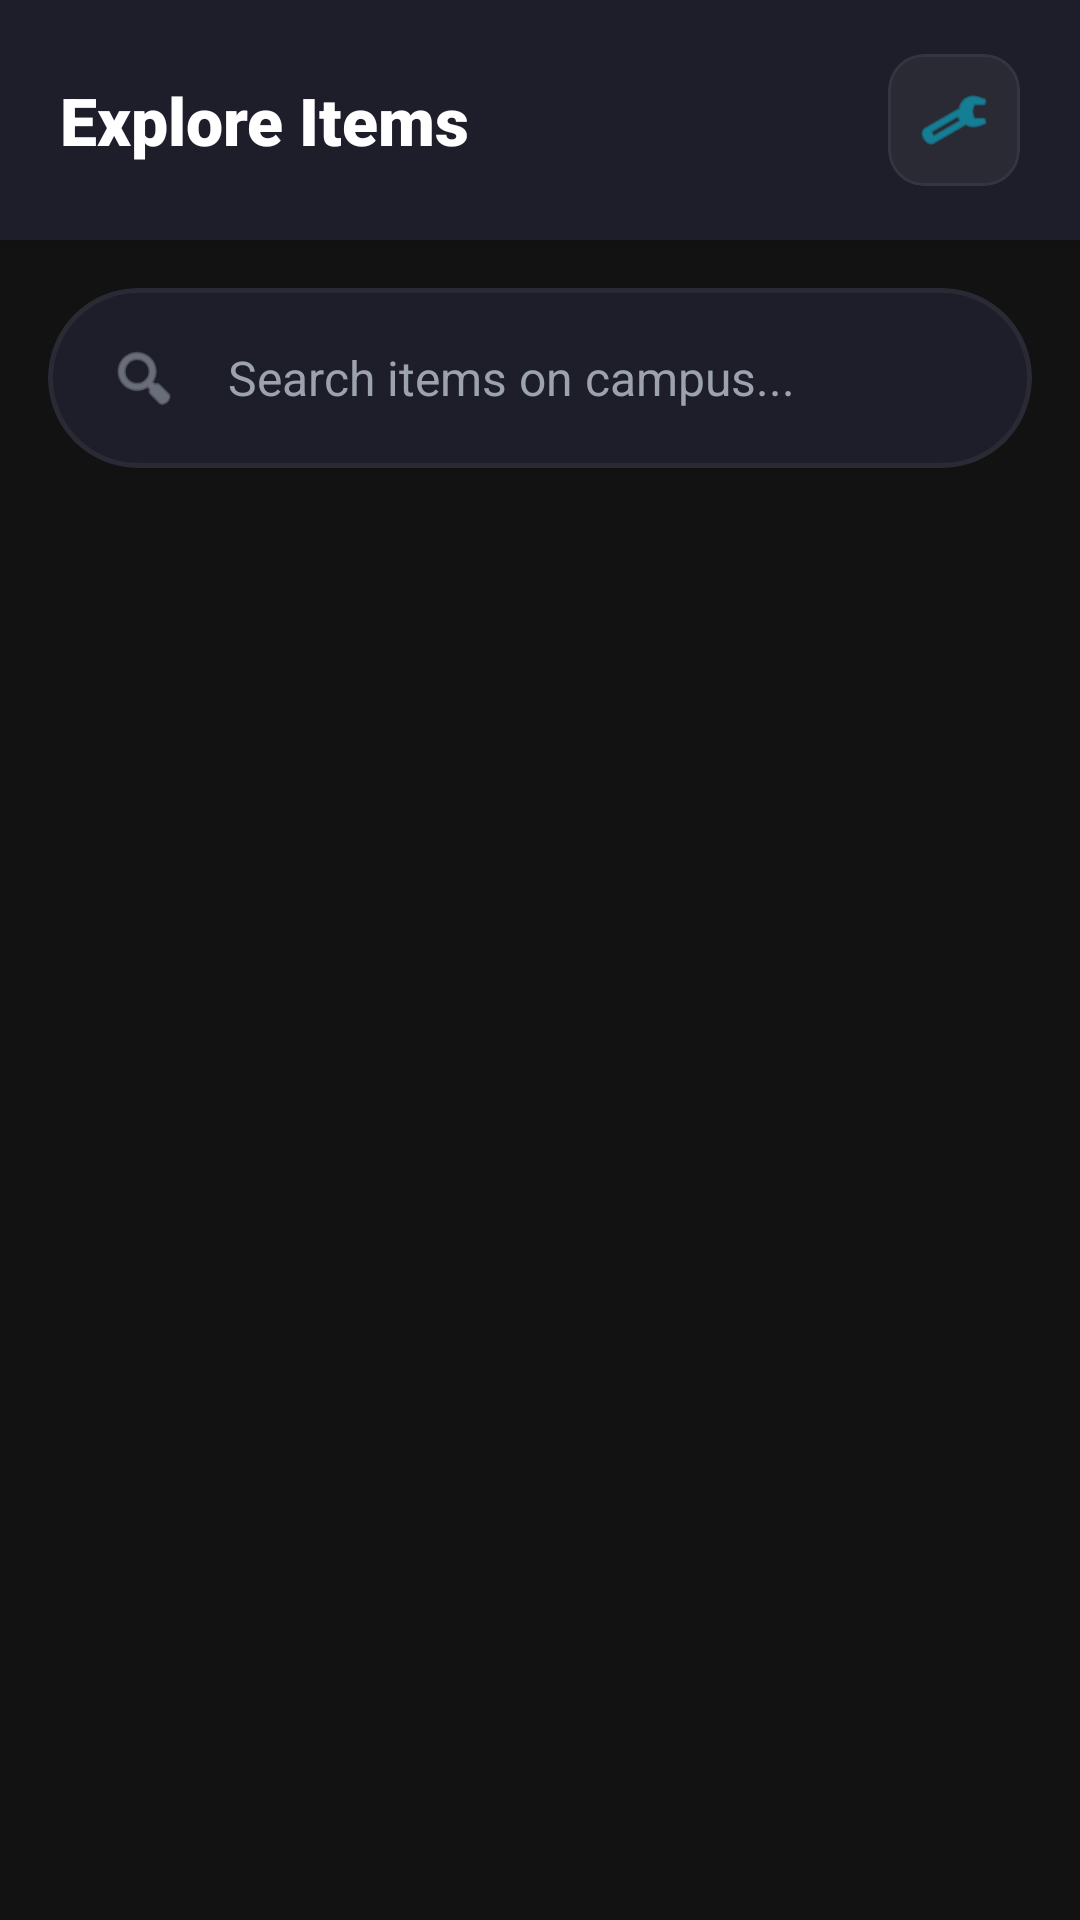

Point at icon controls on the screen. Image size 1080*1920, points as [x,y].
Search Icon Indicator: [144,378]
